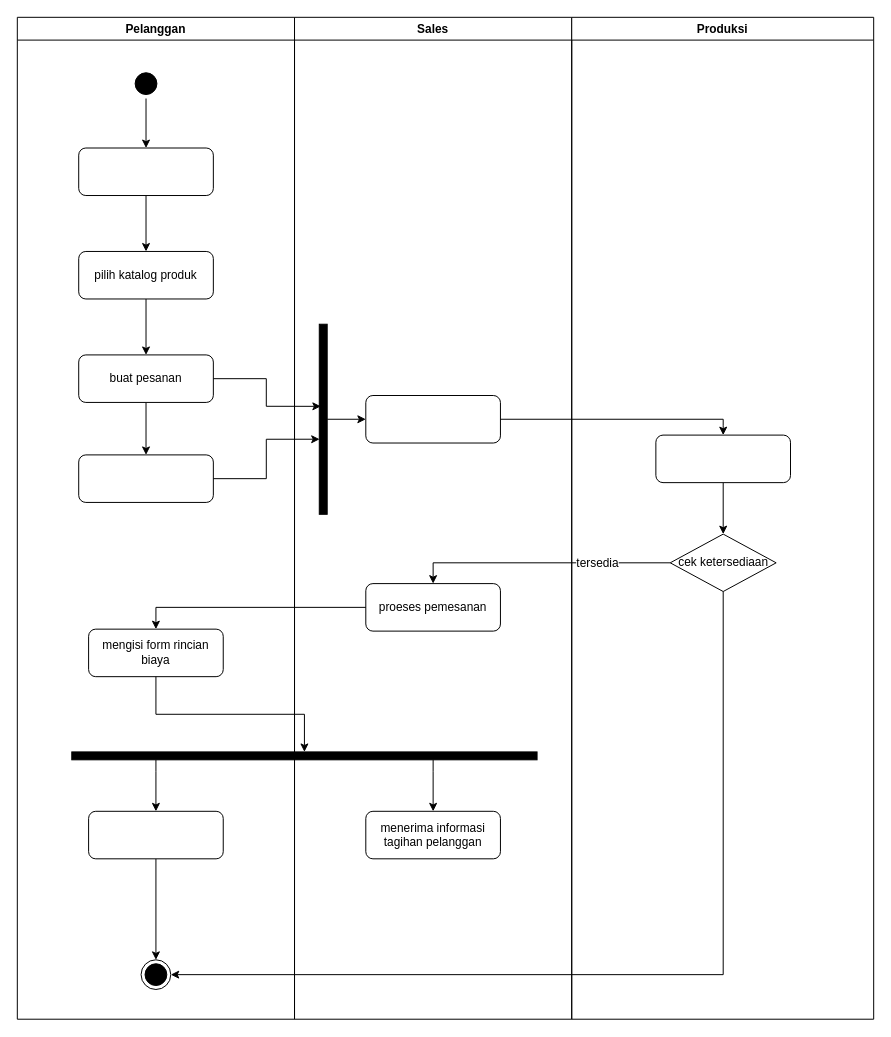
The diagram is 891 pixels wide and 1037 high, and some of its shapes have lost their labels. The shapes that lost their labels are listed below. From the top down, each one's centre as x and y in pixels, then its label:
At point 145,171: "cari katalog produk".
At point 432,419: "menerima pesanan".
At point 145,478: "mengisi informasi pengiriman barang".
At point 723,458: "menerima informasi pesanan".
At point 155,834: "menerima faktur pembelian".
